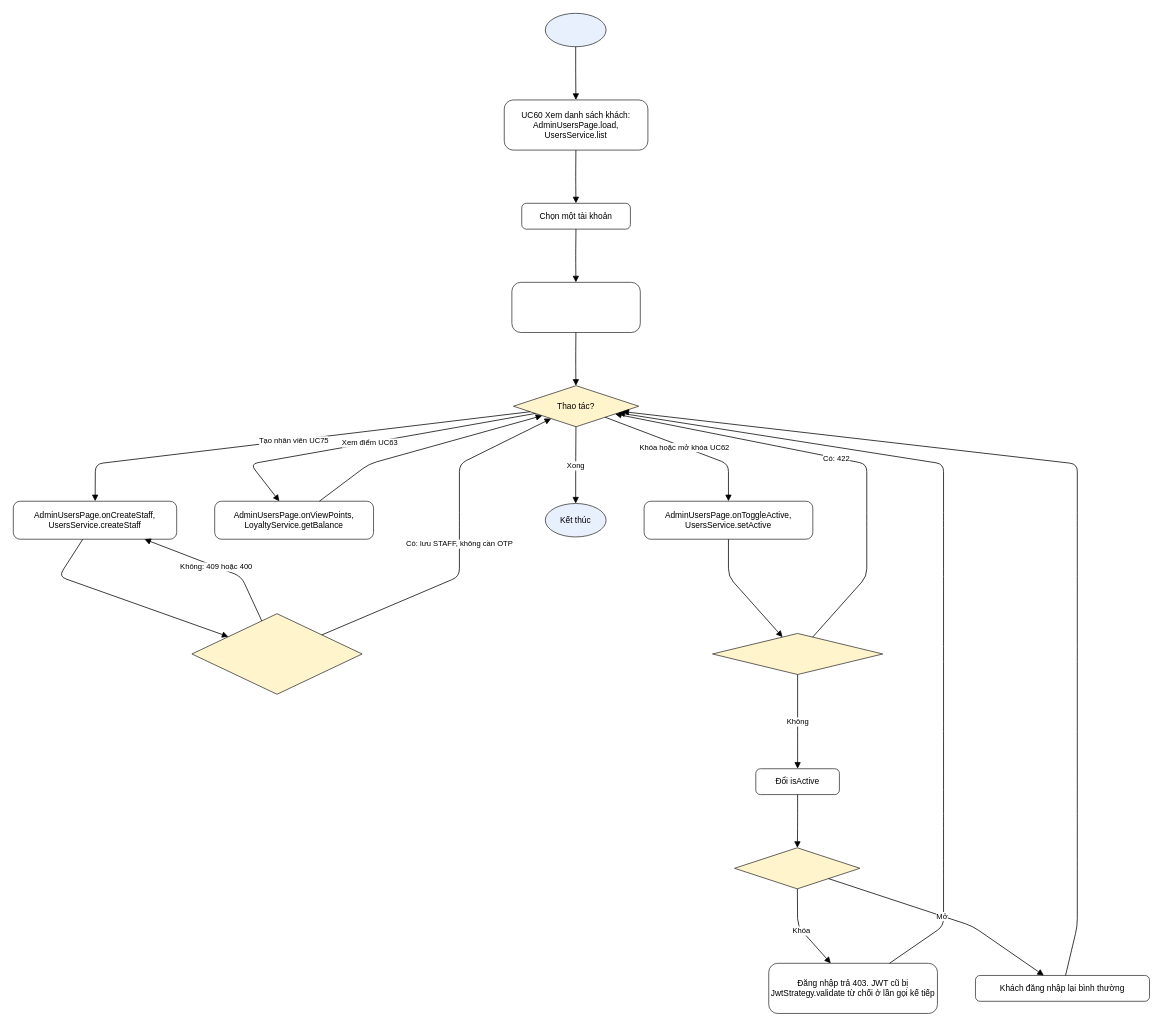
The diagram is 1163 pixels wide and 1027 high, and some of its shapes have lost their labels. The shapes that lost their labels are listed below. From the top down, each one's centre as x and y in pixels, then its label:
(575,30): Bắt đầu: Quản lý
(575,307): UC61 Xem chi tiết: AdminUsersPage.onOpen, UsersService.getDetail
(276,653): Số điện thoại chưa dùng và dữ liệu hợp lệ?
(797,653): Tự khóa chính mình?
(797,868): Khóa hay mở?
